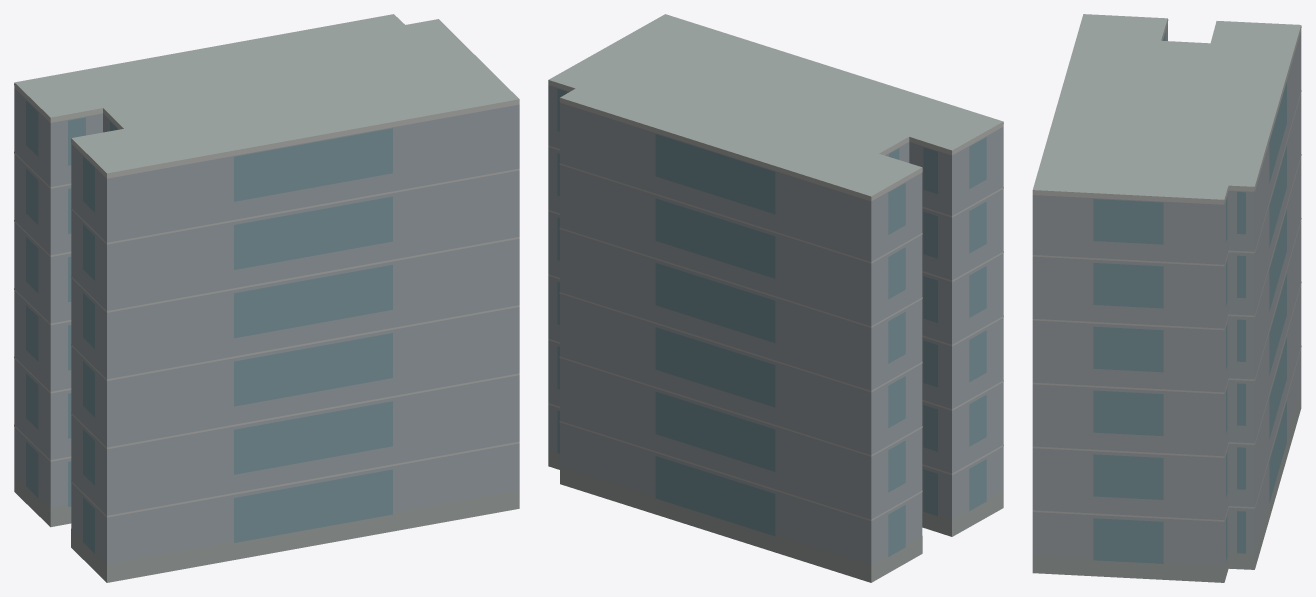
File: survey-upis-32973471.glb
The picture shows the model from 3 angles, left to right: view 1: azimuth 30°, elevation 25°; view 2: azimuth 150°, elevation 25°; view 3: azimuth 270°, elevation 25°; orthographic projection. The views are drawn at different scales.
Parts seen in each view (by area): view 1: survey-upis-32973471.tmp; view 2: survey-upis-32973471.tmp; view 3: survey-upis-32973471.tmp.
Boxes of the visible parts, x1,y1,x2,y2 form: survey-upis-32973471.tmp: (14,14,519,582); survey-upis-32973471.tmp: (548,14,1003,582); survey-upis-32973471.tmp: (1032,14,1301,582).
Bounding box in the file's own units: 19.69 × 18.9 × 12.04.
